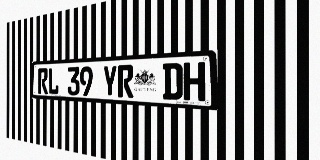3: (68, 67, 79, 95)
9: (80, 66, 93, 96)
D: (163, 63, 183, 100)
H: (183, 62, 205, 101)
L: (48, 67, 59, 95)
R: (118, 65, 133, 98), (38, 68, 48, 94)
Y: (103, 65, 117, 97)
